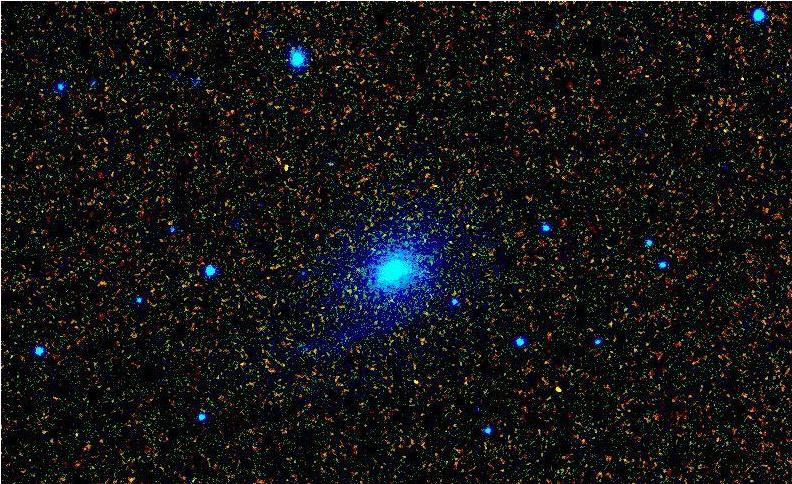star: (543, 376, 573, 406)
